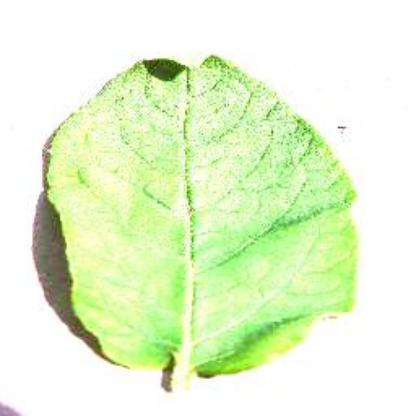Healthy-plant: (43, 50, 363, 390)
